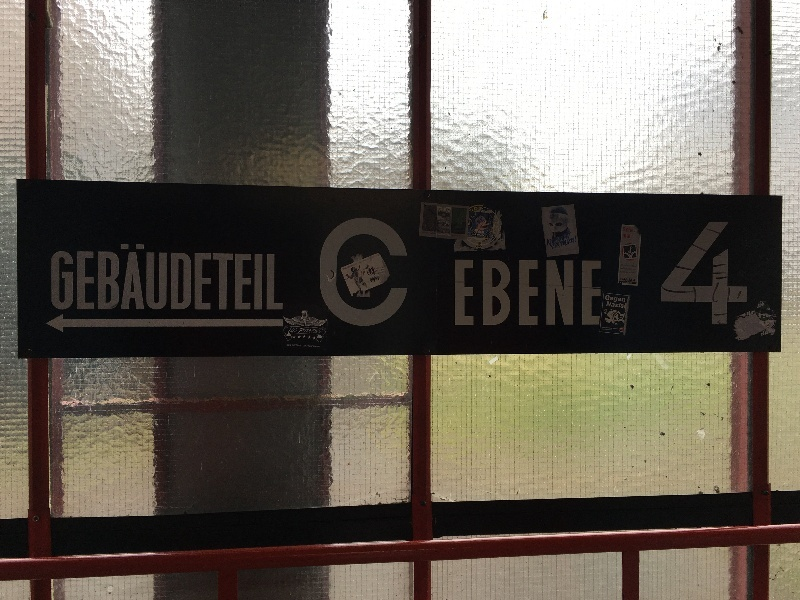text: (321, 218, 336, 328), (337, 218, 352, 328), (353, 218, 368, 328), (369, 218, 384, 328), (385, 218, 400, 328), (673, 220, 688, 326), (689, 220, 704, 326), (705, 220, 720, 326), (721, 220, 736, 326), (737, 220, 751, 326), (65, 243, 80, 312), (81, 243, 96, 312), (97, 243, 112, 312), (113, 243, 128, 312), (129, 243, 144, 312), (145, 243, 160, 312), (161, 243, 176, 312), (177, 243, 192, 312), (193, 243, 208, 312), (209, 243, 224, 312), (225, 243, 240, 312), (241, 243, 256, 312), (257, 243, 272, 312), (465, 259, 480, 326), (481, 259, 496, 326), (497, 259, 512, 326), (513, 259, 528, 326), (529, 259, 544, 326), (545, 259, 560, 326), (561, 259, 576, 326), (577, 259, 592, 326), (664, 220, 672, 326), (52, 243, 64, 312), (273, 243, 284, 312), (454, 259, 464, 326), (401, 218, 407, 328), (593, 259, 601, 326), (561, 236, 577, 250), (548, 233, 560, 247), (561, 233, 571, 247), (609, 301, 625, 309), (551, 236, 560, 250), (609, 295, 624, 303), (305, 328, 320, 334), (291, 328, 304, 333), (305, 344, 321, 348), (625, 277, 637, 282), (289, 344, 304, 348), (470, 207, 480, 213), (625, 227, 634, 233), (625, 264, 637, 268), (625, 271, 637, 275), (625, 268, 636, 271), (625, 234, 631, 239), (300, 328, 304, 334), (477, 217, 480, 224), (481, 217, 484, 224), (620, 277, 624, 282), (481, 233, 485, 238), (606, 295, 608, 303), (477, 233, 480, 238), (621, 264, 624, 268), (621, 271, 624, 275), (621, 268, 624, 271), (625, 295, 626, 303), (321, 328, 322, 334), (481, 207, 482, 213), (623, 234, 624, 239), (287, 344, 288, 348)
